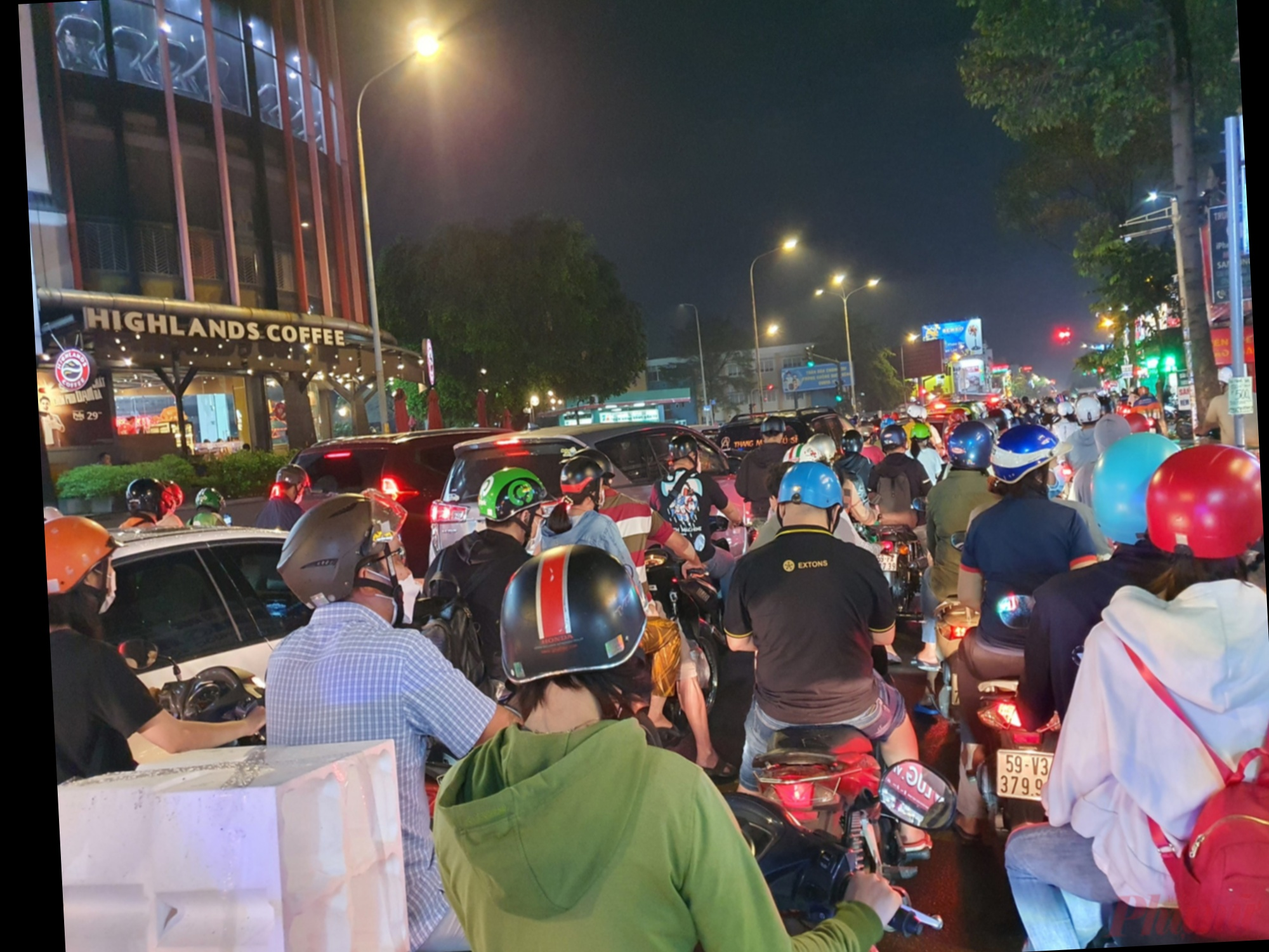Bien-so: (996, 747, 1051, 807)
